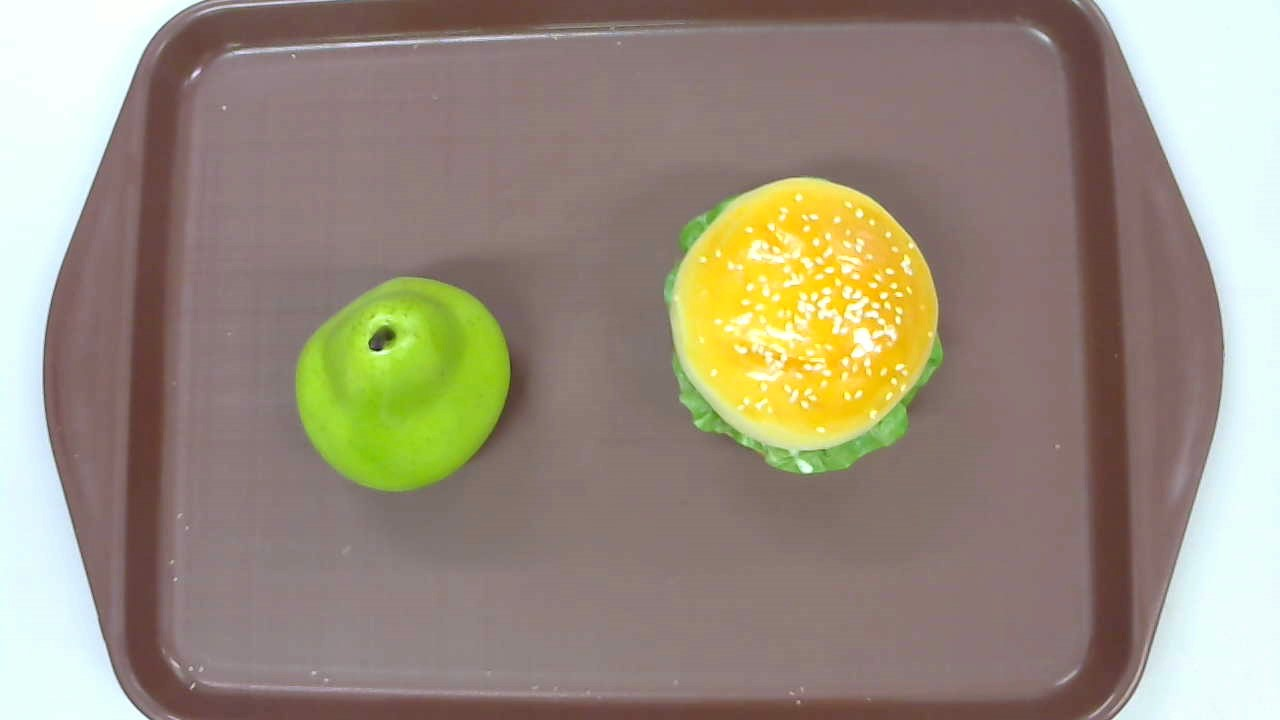green pear: (295, 276, 508, 490)
hamburger: (663, 174, 944, 475)
